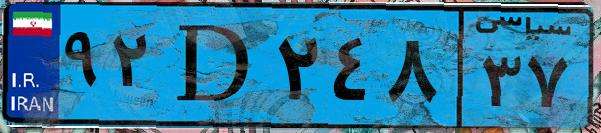2: (270, 28, 330, 110), (110, 28, 158, 98)
3: (475, 38, 525, 113)
4: (330, 28, 385, 110)
7: (525, 38, 570, 115)
8: (385, 28, 445, 110)
9: (57, 26, 110, 100)
D: (158, 12, 270, 120)
